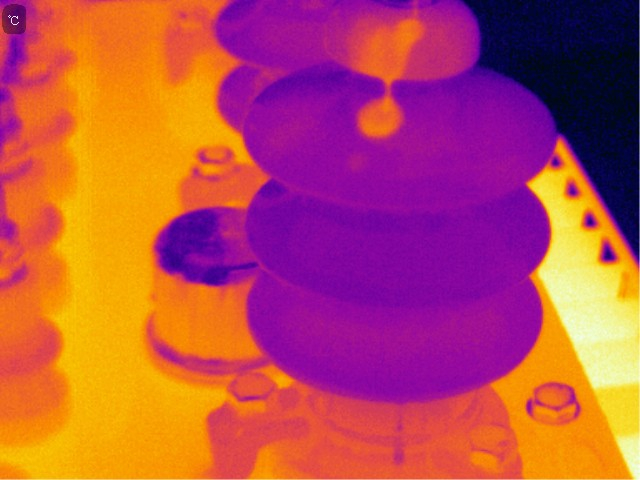Oil: (341, 11, 433, 95), (264, 95, 325, 163), (351, 96, 417, 141), (408, 130, 460, 175), (389, 387, 410, 468), (349, 151, 380, 179), (276, 186, 310, 207)
